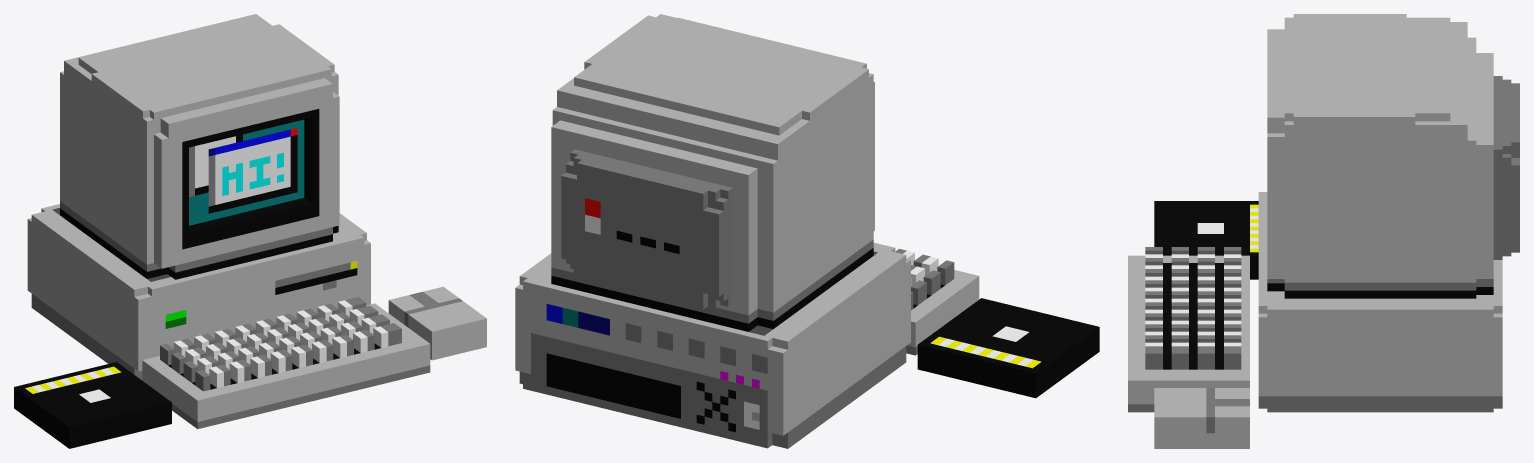
Rendered from dog.glb.
3 renders of one model, left to right at view 1: azimuth 30°, elevation 25°; view 2: azimuth 150°, elevation 25°; view 3: azimuth 270°, elevation 25°, orthographic. The views are drawn at different scales.
Visible parts, largest first — view 1: pc; view 2: pc; view 3: pc.
Boxes of the visible parts, bbox=[...] form: pc: bbox=[14, 14, 486, 448]; pc: bbox=[515, 14, 1099, 448]; pc: bbox=[1128, 14, 1519, 448].
Bounding box in the file's own units: 6.33 × 3.74 × 4.67.
